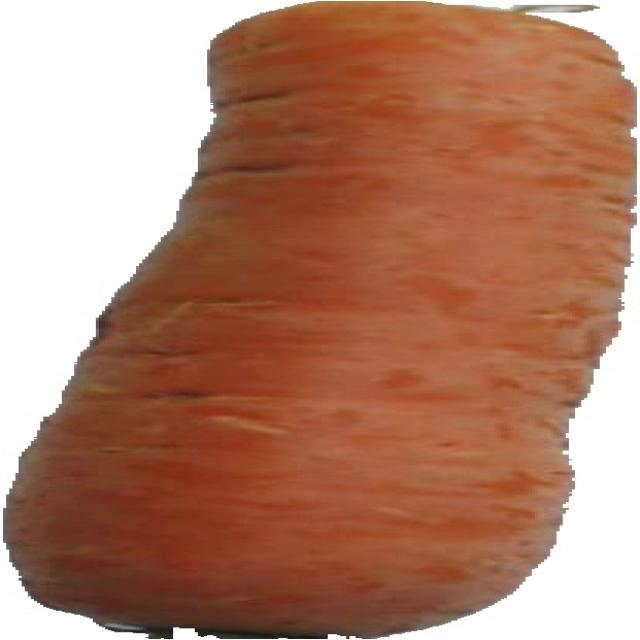carrot: (8, 2, 633, 638)
